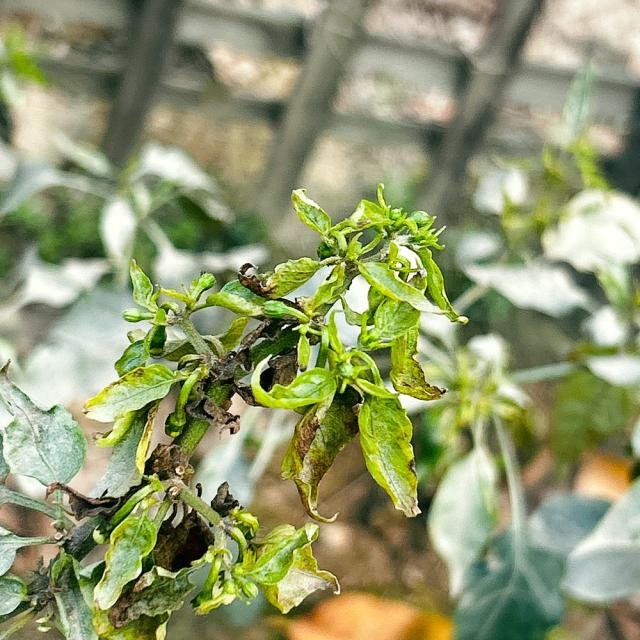Chilli_Leaf_Curl: (1, 182, 468, 637), (233, 182, 468, 522), (0, 358, 88, 492)
